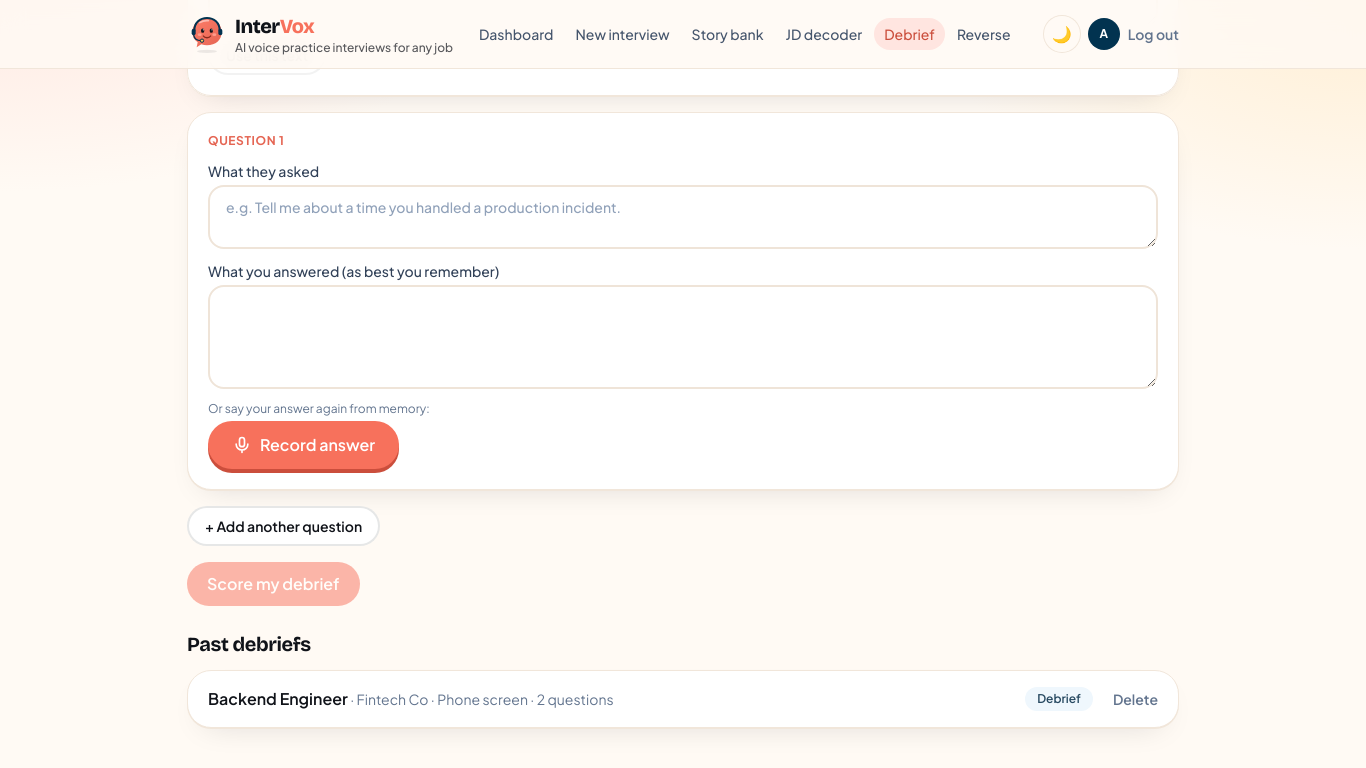
debrief › deletes a past debrief
(page scrolled)
Click the button with aria-label "Delete the debrief Backend Engineer".
click(1135, 699)  # box [1093,689,1178,709]
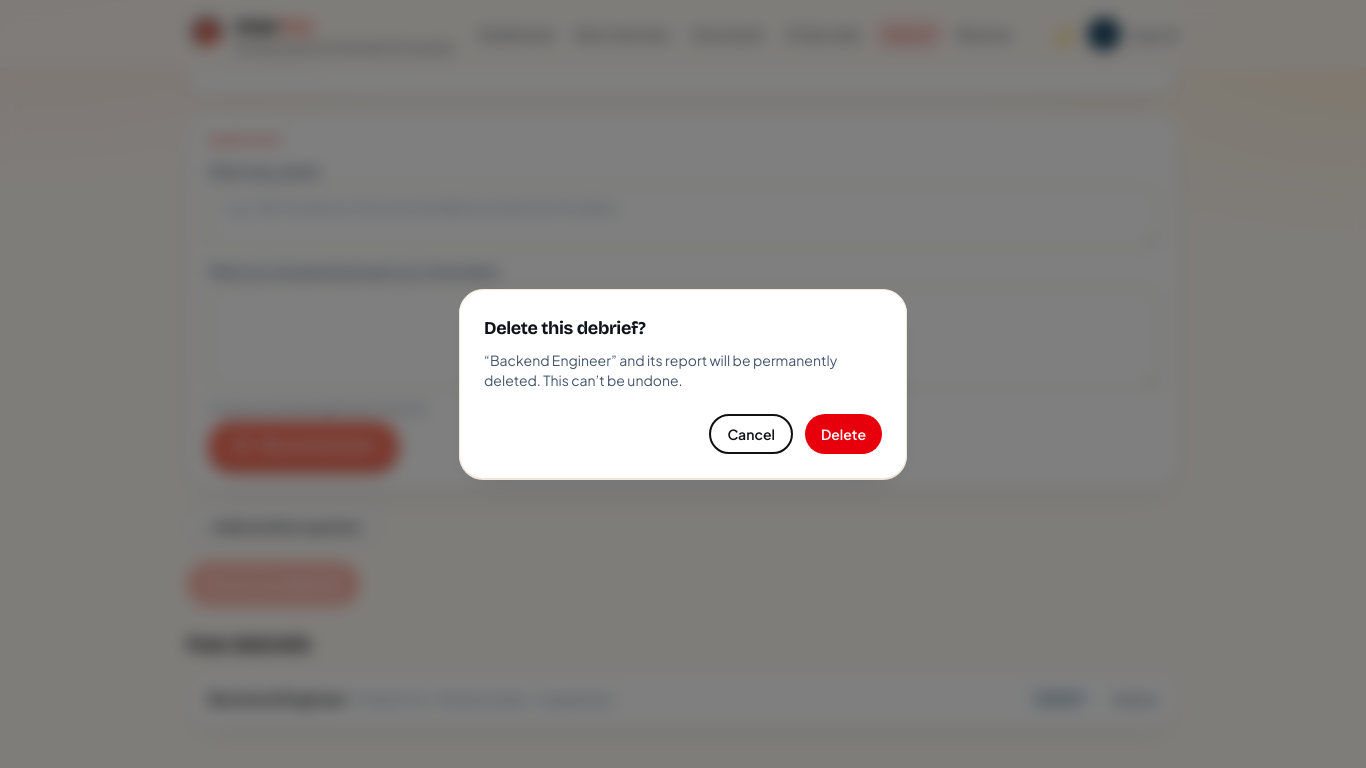
Click the button "Delete".
click(843, 434)  # box [805,414,882,454]
(page scrolled)
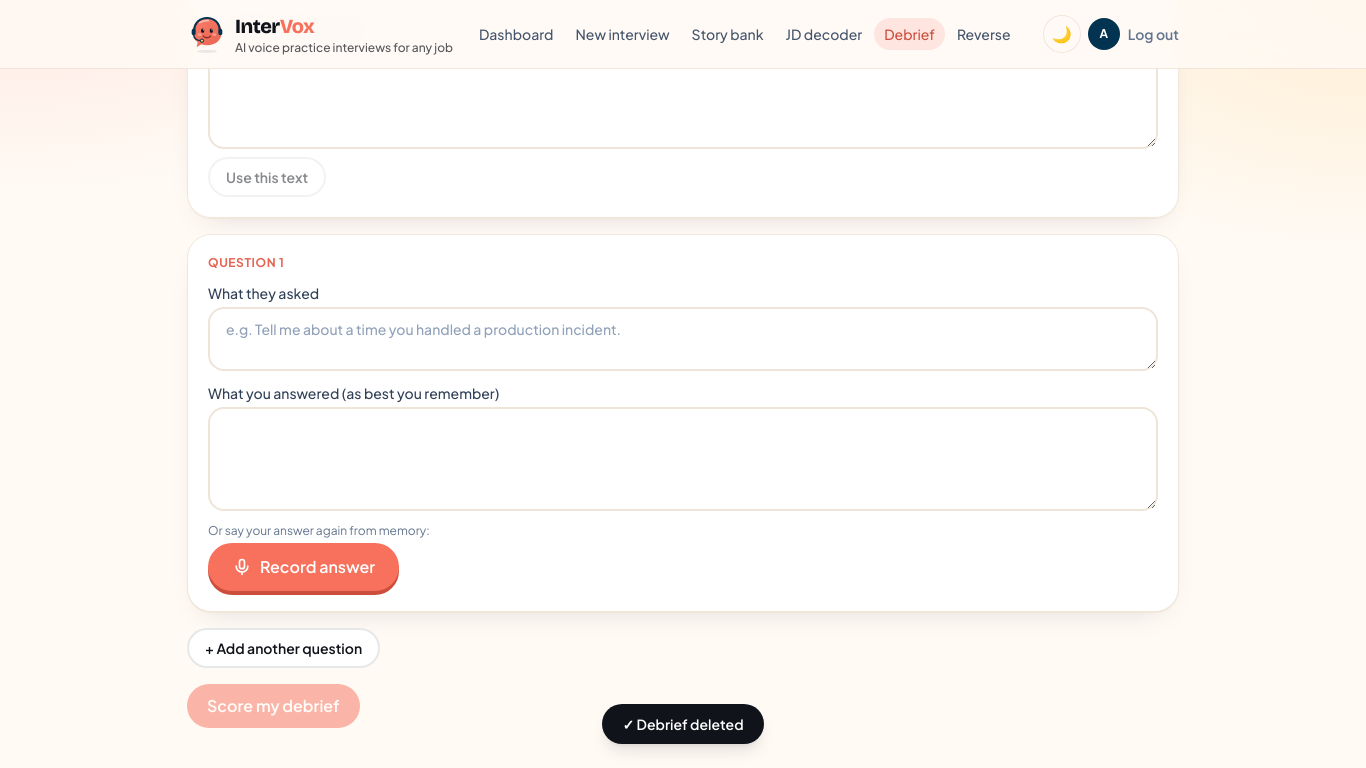
Expected: the heading "Past debriefs" is gone
